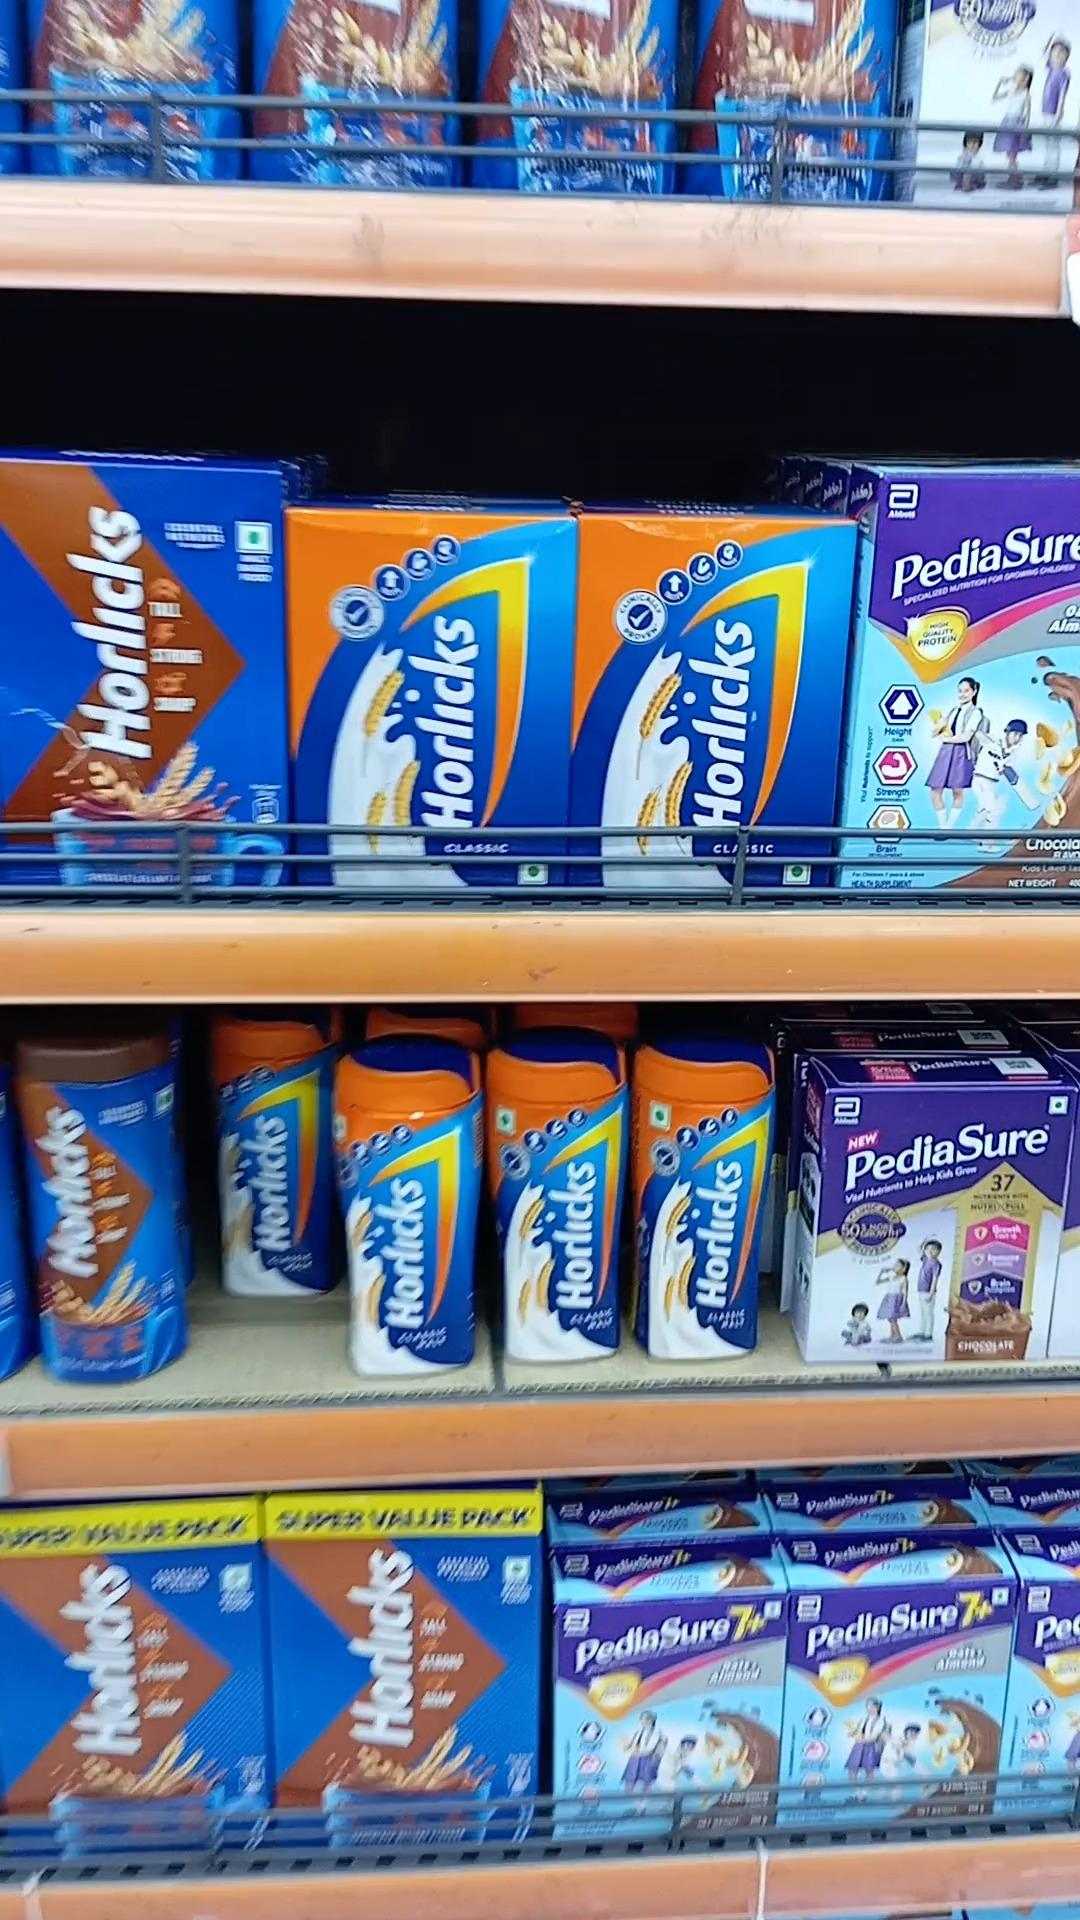HORLICK_CHOCOLATE_1_KG_PACK: (0, 1509, 260, 1869), (273, 1505, 545, 1846)
HORLICK_CHOCOLATE_500_G_JAR: (22, 1036, 186, 1387)
HORLICK_CHOCOLATE_500_G_PACK: (0, 462, 280, 893)
HORLICK_CLASSIC_MALT_500_G_JAR: (335, 1044, 476, 1378), (630, 1043, 764, 1369), (487, 1044, 617, 1364), (220, 1017, 318, 1302)
HORLICK_CLASSIC_MALT_500_G_PACK: (291, 512, 567, 891), (582, 520, 831, 891)
PEDIASURE_7_PLUS_CHOCOLATE_400_G_PACK: (556, 1601, 778, 1851), (787, 1582, 997, 1846)
PEDIASURE_CHOCOLATE_500_G_PACK: (819, 1080, 1064, 1362)
